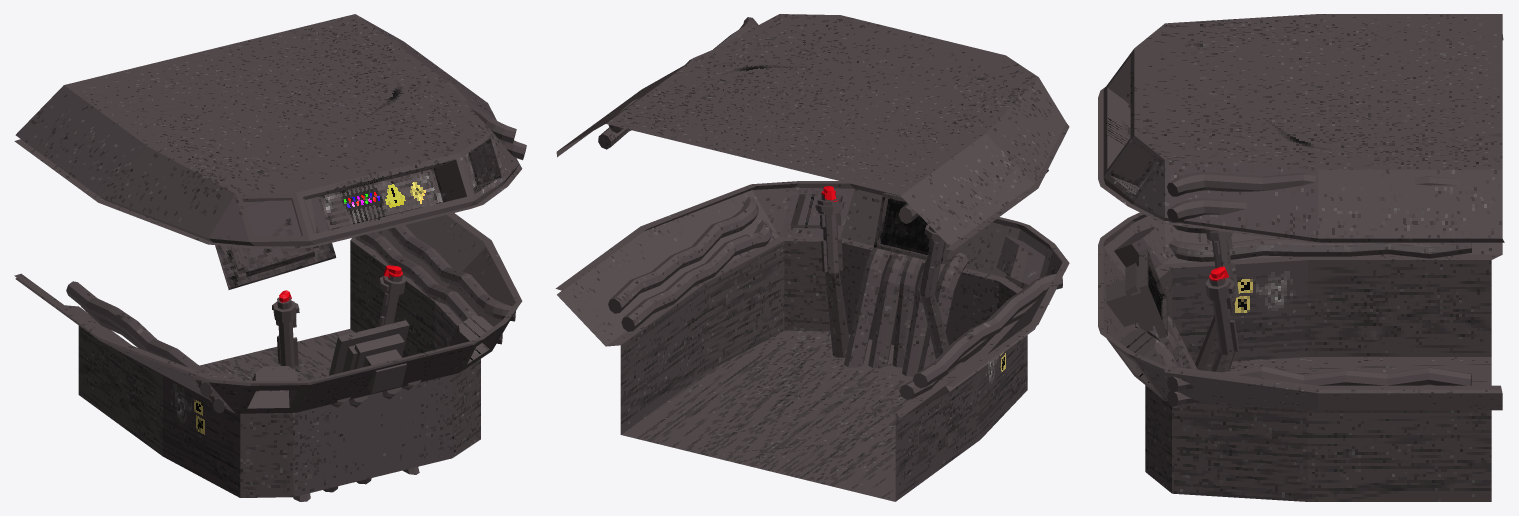
The model's file is crus_mech_in.glb.
3 renders of one model, left to right at view 1: azimuth 30°, elevation 25°; view 2: azimuth 150°, elevation 25°; view 3: azimuth 270°, elevation 25°, orthographic. The views are drawn at different scales.
Visible parts, largest first — view 1: cabine; view 2: cabine; view 3: cabine.
Part boxes in pixels (x1=…): cabine: x1=14, y1=14, x2=526, y2=501; cabine: x1=555, y1=14, x2=1069, y2=501; cabine: x1=1098, y1=14, x2=1504, y2=501.
Size of the model in its own units: 8.1 by 6.62 by 6.63.
1 material, 1 textured.
